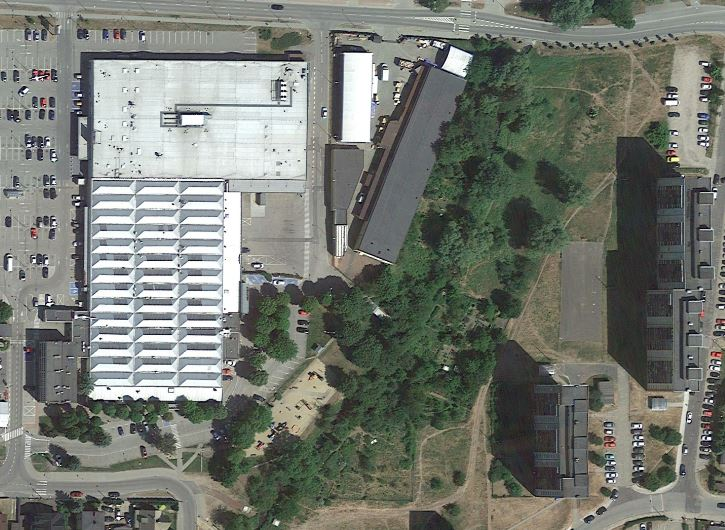block of flats: (638, 168, 718, 398), (530, 374, 597, 505), (34, 334, 78, 410)
garage: (350, 54, 473, 268), (327, 145, 378, 270), (331, 49, 379, 147)
shopping_center: (70, 49, 313, 409)
